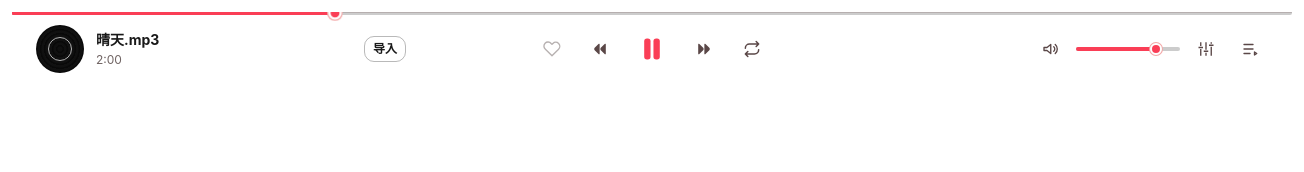
PlayerBar (task 11.7) — temporary item label › shows a non-success result without claiming an import (skipped)
The image size is (1304, 172).
Click the button "导入".
click(385, 49)  # box [364, 36, 406, 62]
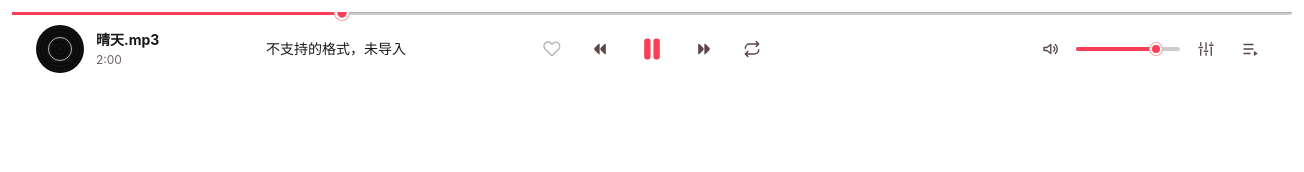
Result: the text with test id "player-import-result" reads "不支持的格式，未导入" at [266, 40, 406, 57]
